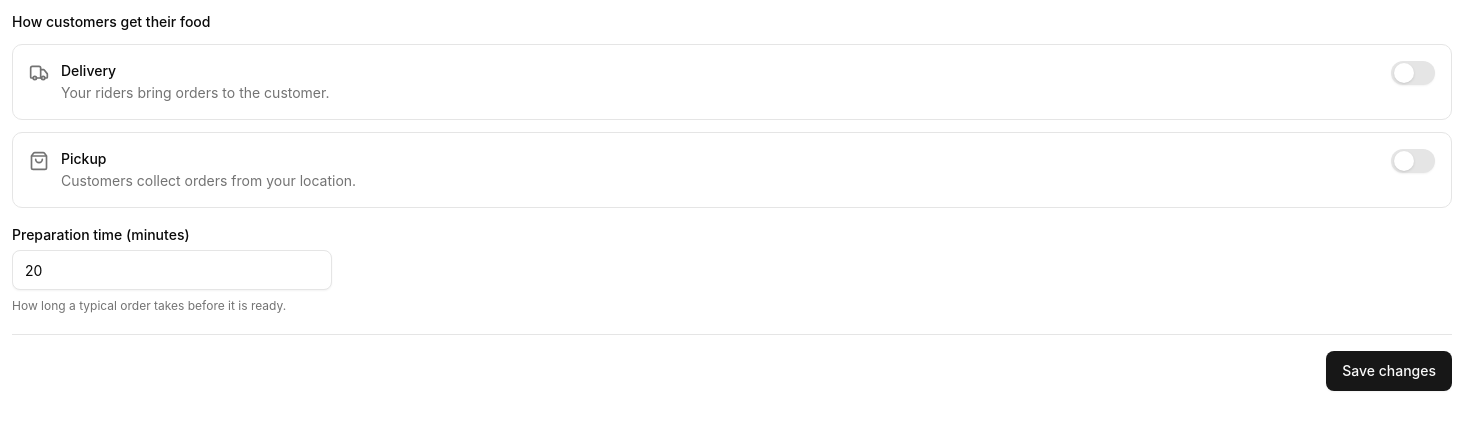
FulfillmentForm › requires delivery, pickup or both
Click the button "Save changes" at (1389, 371), box top-left (1326, 351), bottom-right (1452, 391)
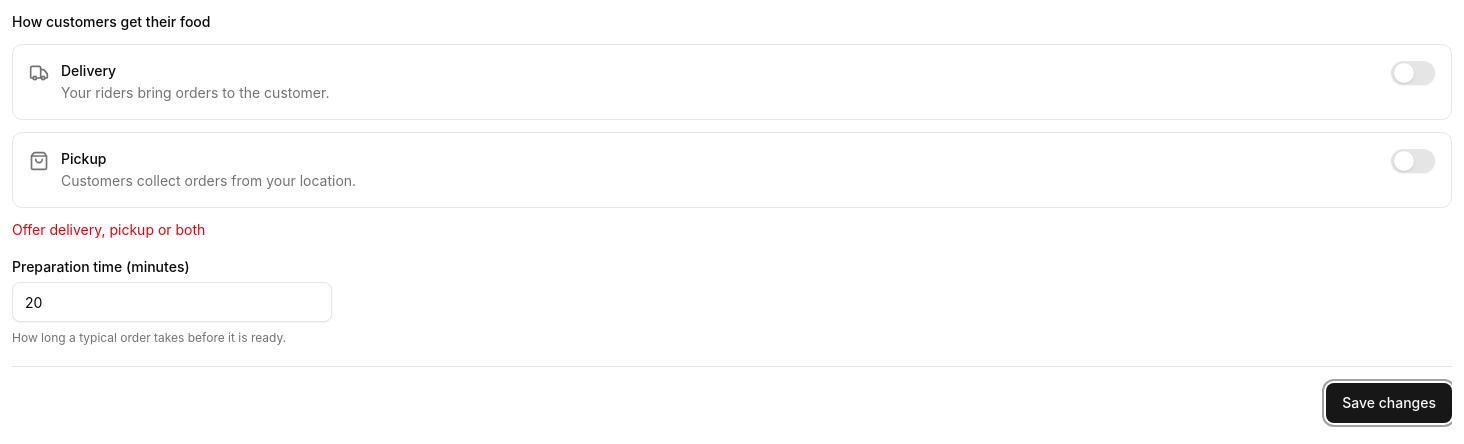
Now the message reads "Offer delivery, pickup or both", box top-left (12, 221), bottom-right (205, 238)
